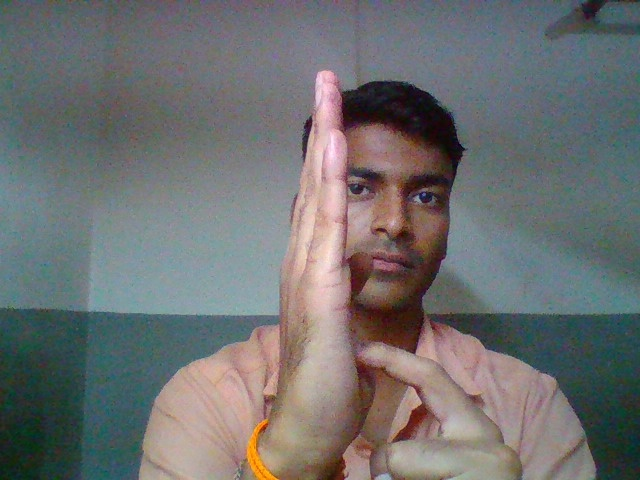H: (249, 62, 537, 480)
